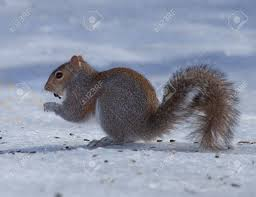squirrel: (43, 54, 237, 152)
